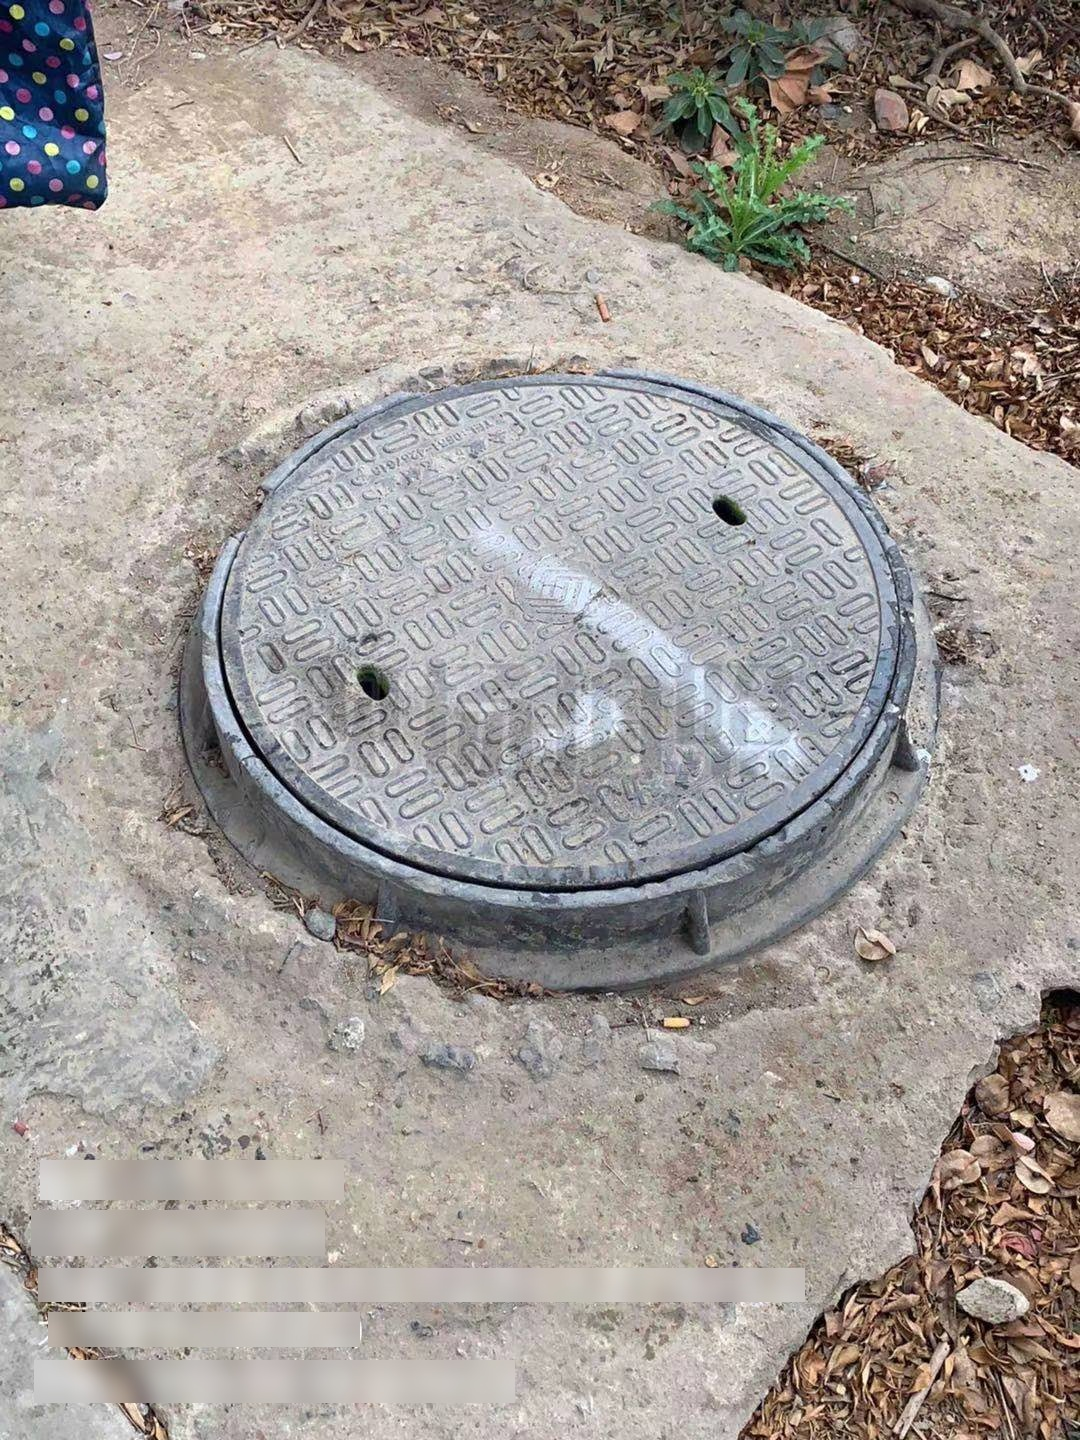good: (199, 375, 916, 909)
